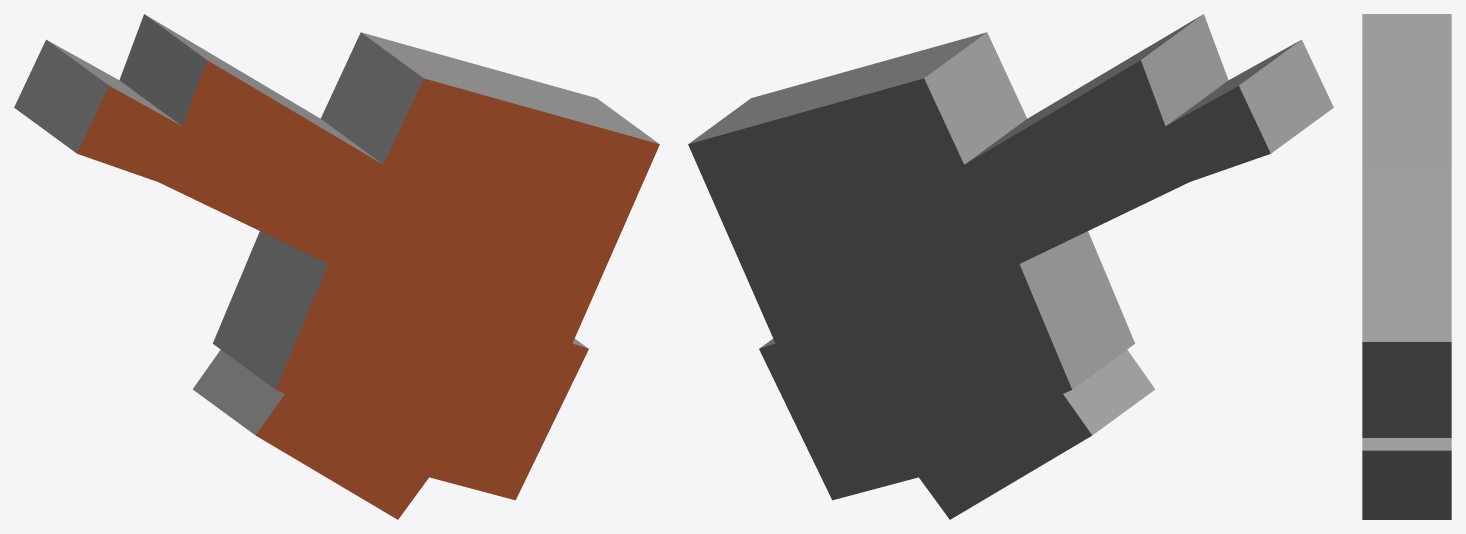
File: construction_1057_assumed_A_Casa_h6m.obj
3 views of the same model, side by side, from view 1: azimuth 30°, elevation 25°; view 2: azimuth 150°, elevation 25°; view 3: azimuth 270°, elevation 25° (orthographic). The views are drawn at different scales.
Parts seen in each view (by area): view 1: construction_1057_assumed_A_Casa; view 2: construction_1057_assumed_A_Casa; view 3: construction_1057_assumed_A_Casa.
Part boxes in pixels (left/top/right/bottom): construction_1057_assumed_A_Casa: left=14, top=14, right=659, bottom=519; construction_1057_assumed_A_Casa: left=688, top=14, right=1333, bottom=519; construction_1057_assumed_A_Casa: left=1362, top=14, right=1451, bottom=519.
Bounding box in the file's own units: 32.03 × 27.07 × 6.
